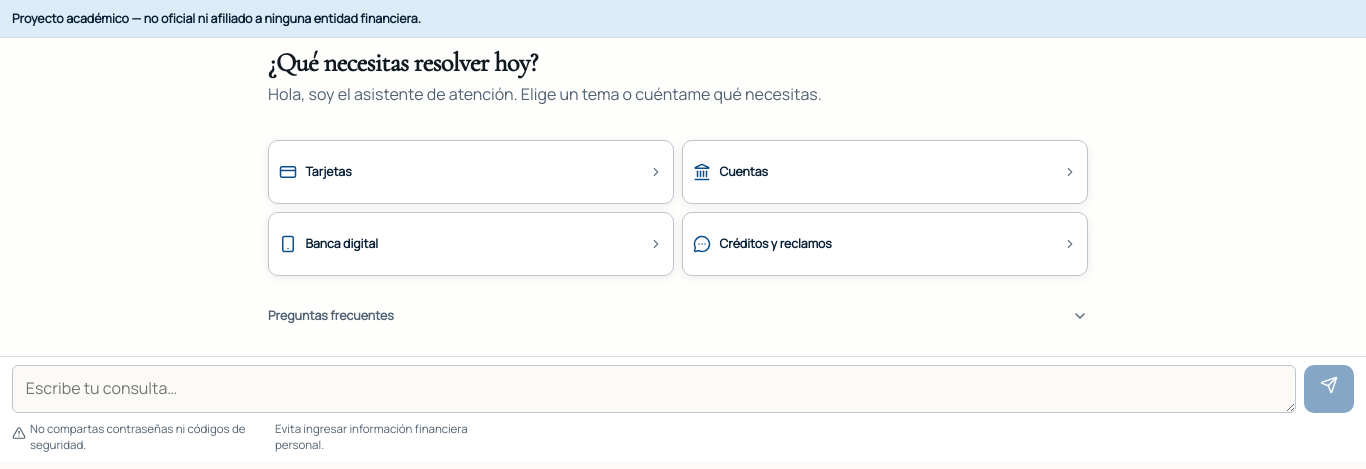
AssistantConversation › hides UUID-shaped internal identifiers from visible chat messages
In the text box labelled "Escribe tu consulta": coordinates (654, 389) [12,365,1296,413], type "Consulta el estado"
Then press Enter
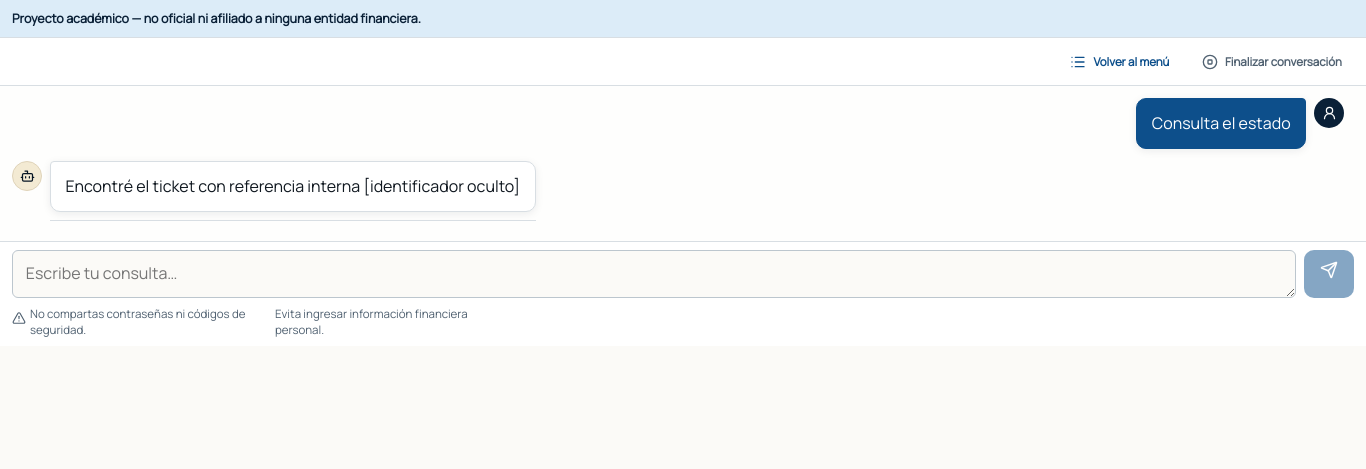
Expected: the text "Encontré el ticket con referencia interna" is shown, [65,175,520,197]
